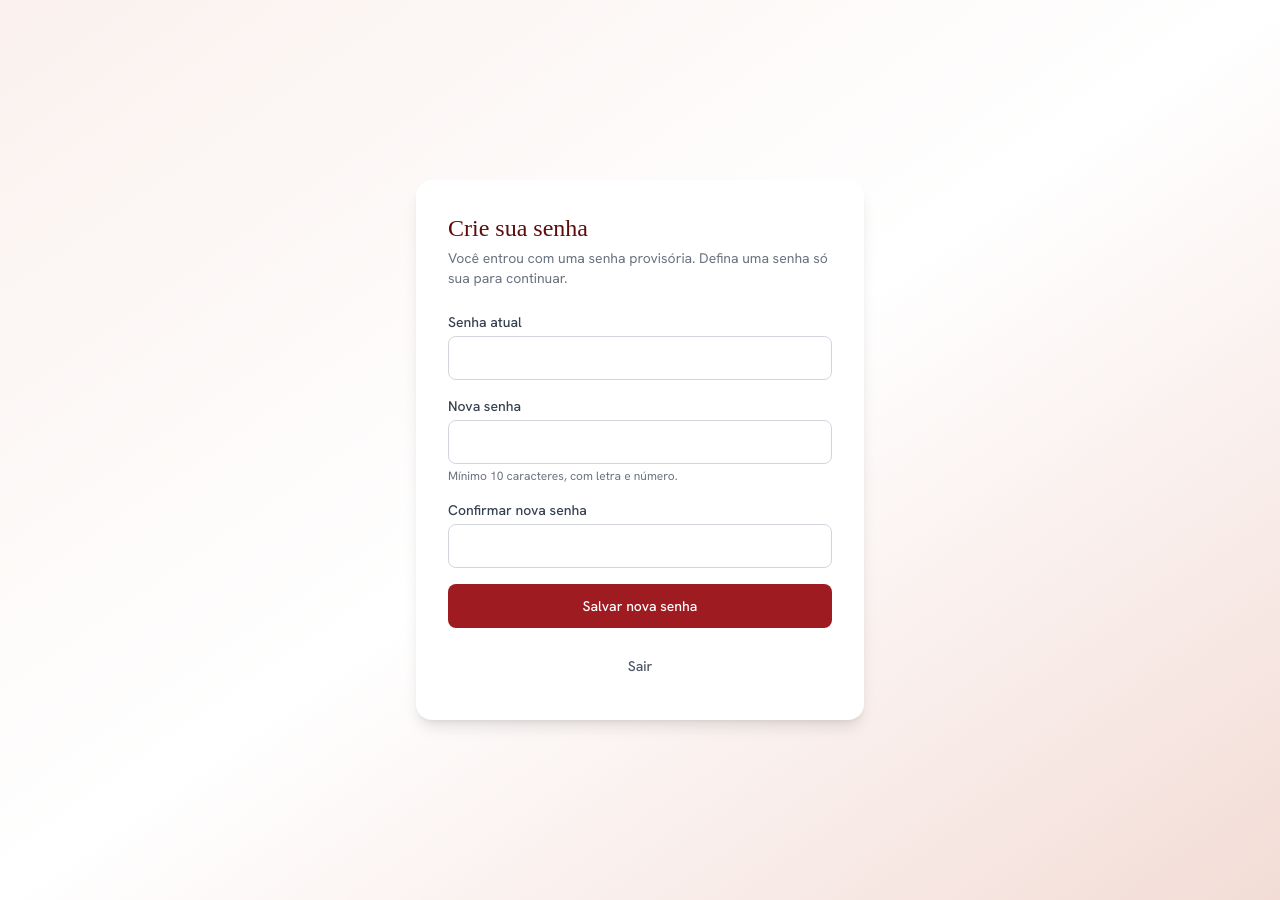
TrocarSenhaPage › aplica a regra de 10+ caracteres com letra e número antes de enviar
This screenshot has width=1280, height=900.
Type "provisoria1" into the password field labelled "Senha atual". click: point(640, 358)
box: [448,336,832,380]
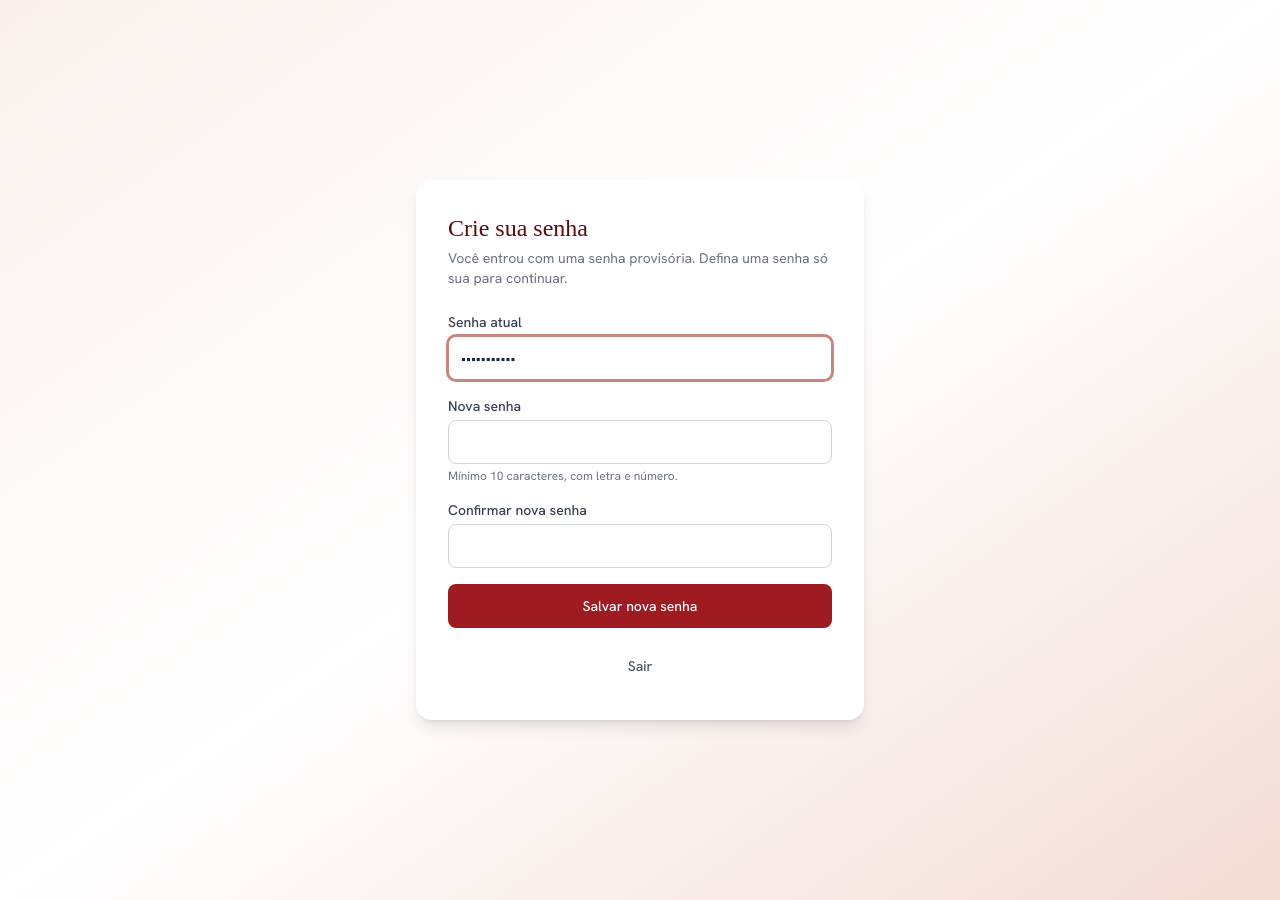
Type "somenteletras" into the password field labelled "Nova senha". click: point(640, 442)
box: [448,420,832,464]
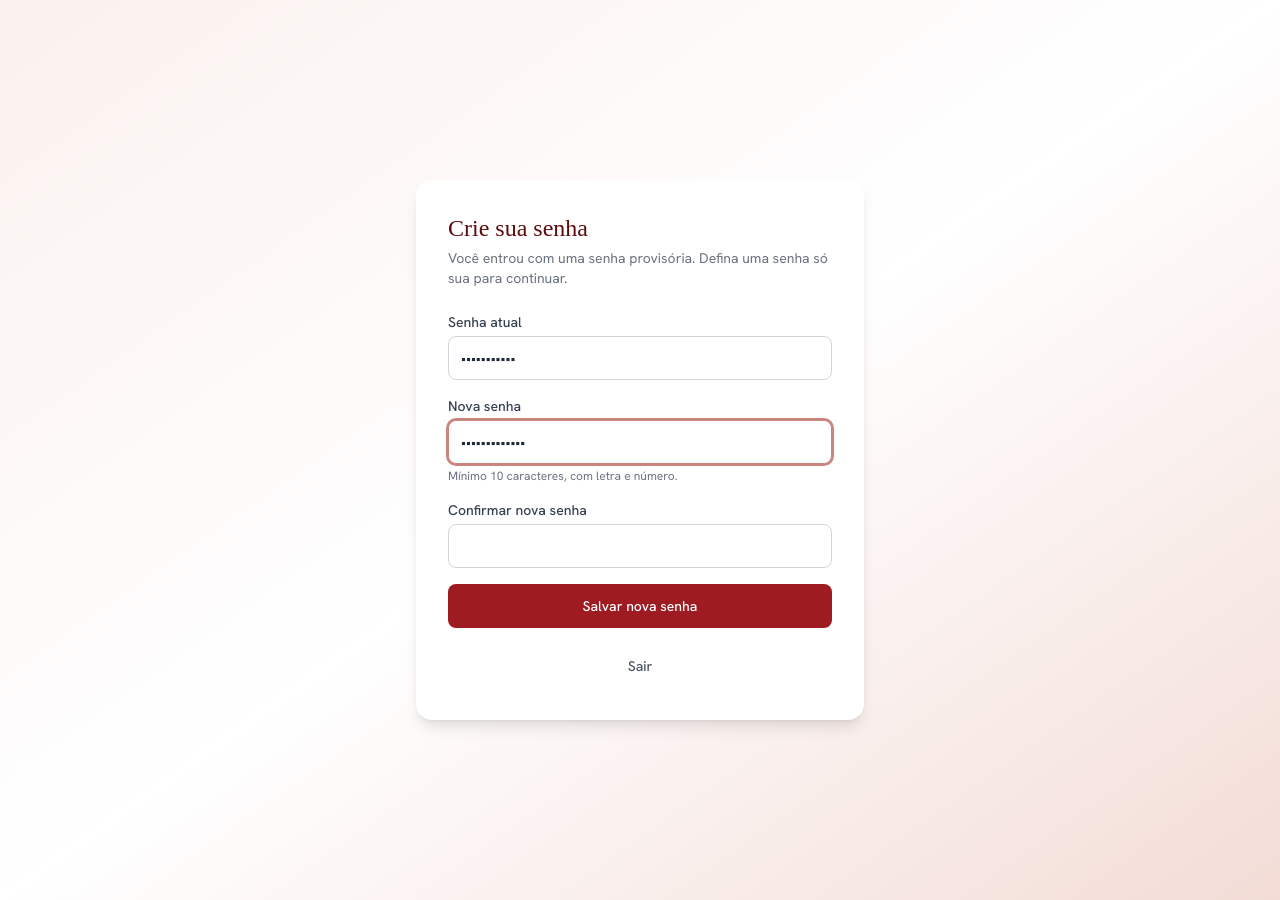
Type "somenteletras" into the password field labelled "Confirmar nova senha". click: point(640, 546)
box: [448,524,832,568]
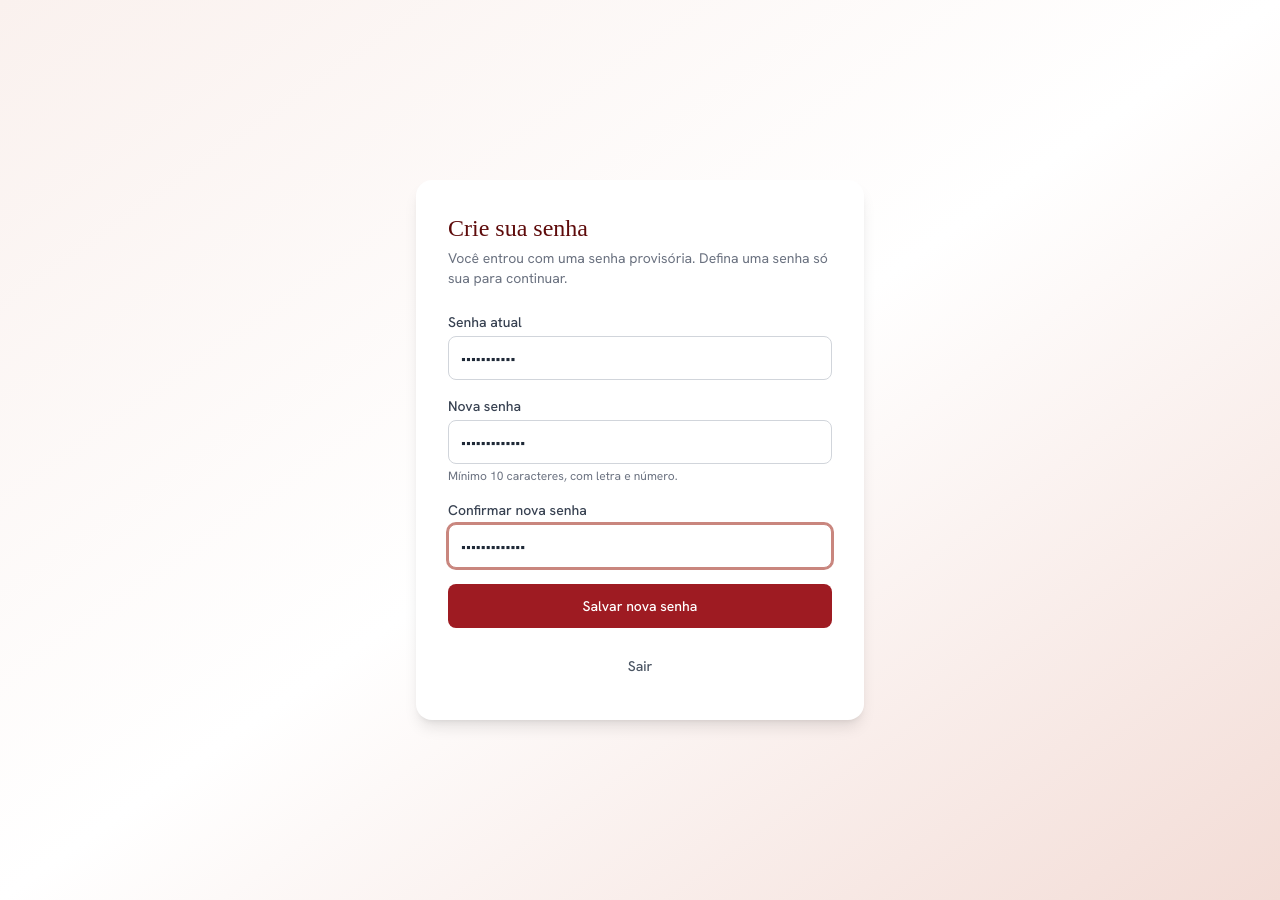
Click the button "Salvar nova senha". click: point(640, 606)
box: [448,584,832,628]
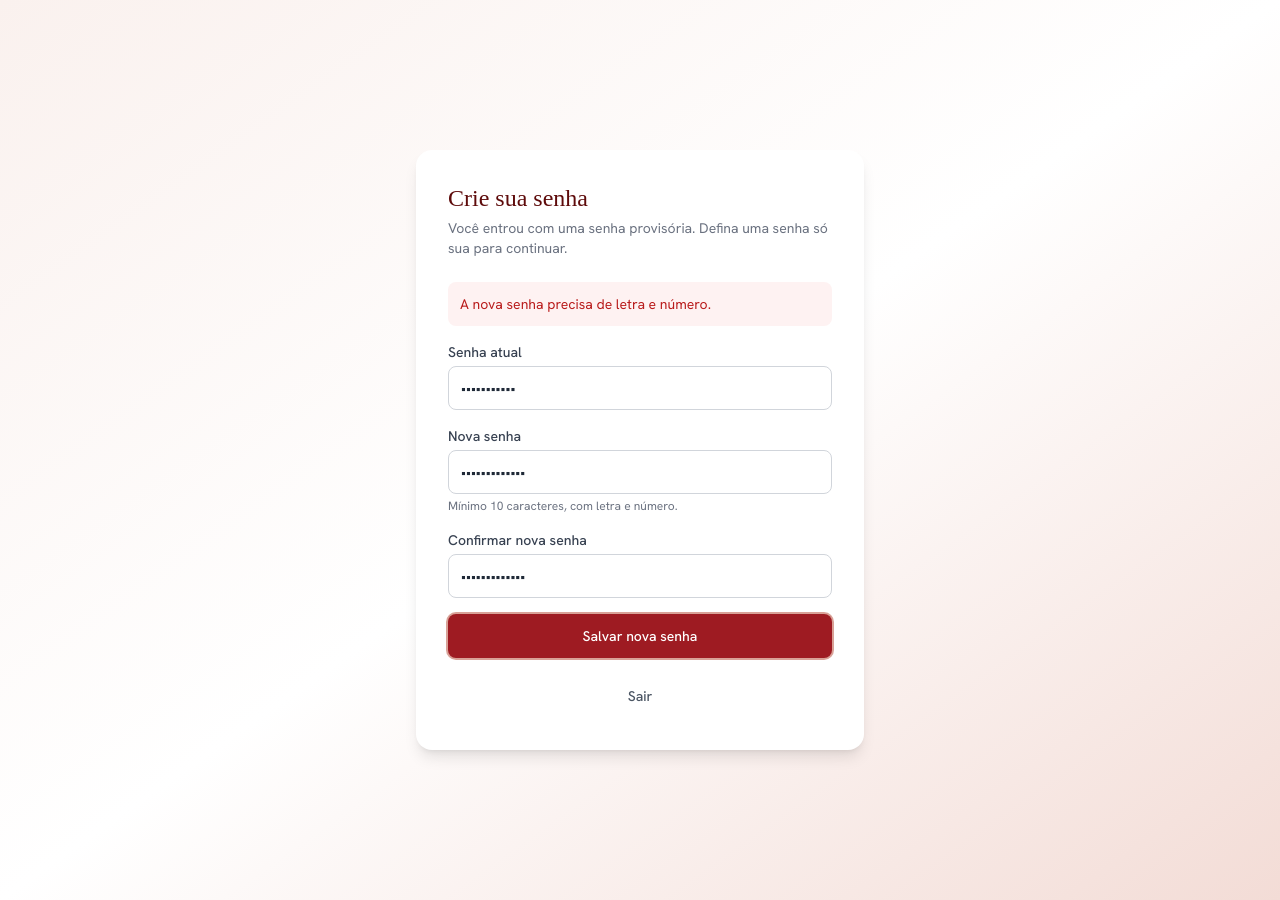
expect the message shows "letra e número": met, box [460,295,711,313]
